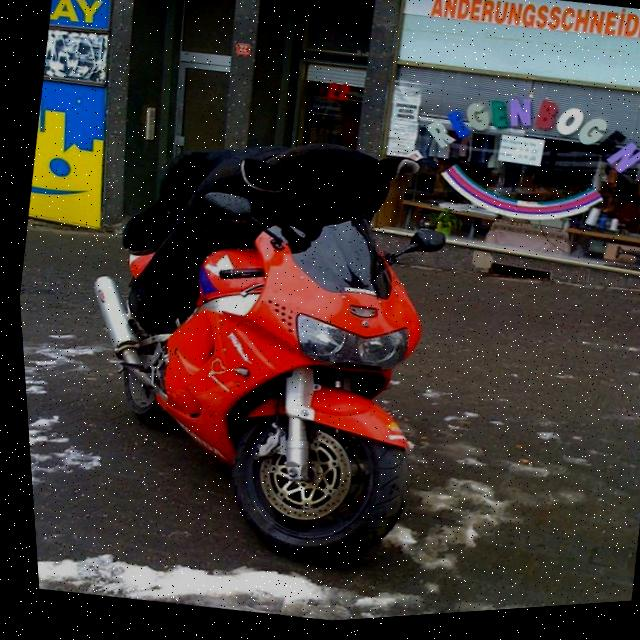motorcycle: (27, 102, 494, 611)
